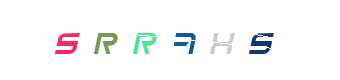5: (27, 0, 107, 80), (189, 0, 269, 80)
7: (130, 0, 210, 80)
R: (73, 0, 153, 80), (106, 0, 186, 80)
X: (152, 0, 232, 80)
